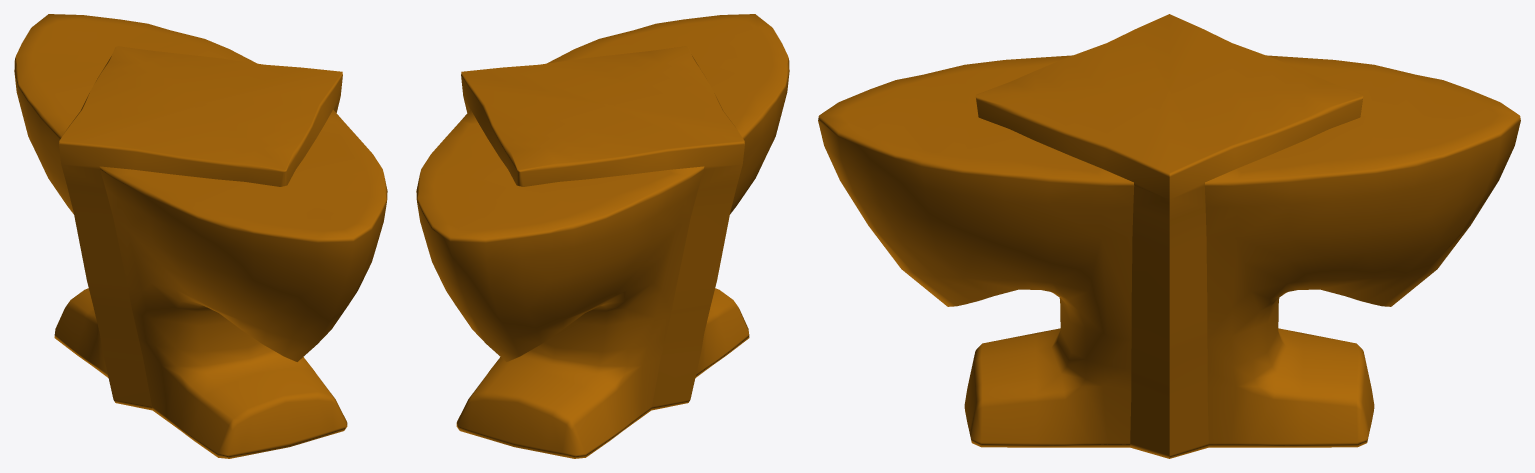
Rendered from Mod_anvil_LODs.fbx.
The picture shows the model from 3 angles, left to right: view 1: azimuth 30°, elevation 25°; view 2: azimuth 150°, elevation 25°; view 3: azimuth 270°, elevation 25°; orthographic projection. The views are drawn at different scales.
Parts seen in each view (by area): view 1: anvil_LOD0; view 2: anvil_LOD0; view 3: anvil_LOD0.
Boxes of the visible parts, <box> form: anvil_LOD0: <box>14,14,387,458</box>; anvil_LOD0: <box>416,14,789,458</box>; anvil_LOD0: <box>818,14,1520,458</box>.
Size of the model in its own units: 40.68 by 38.12 by 75.78.
